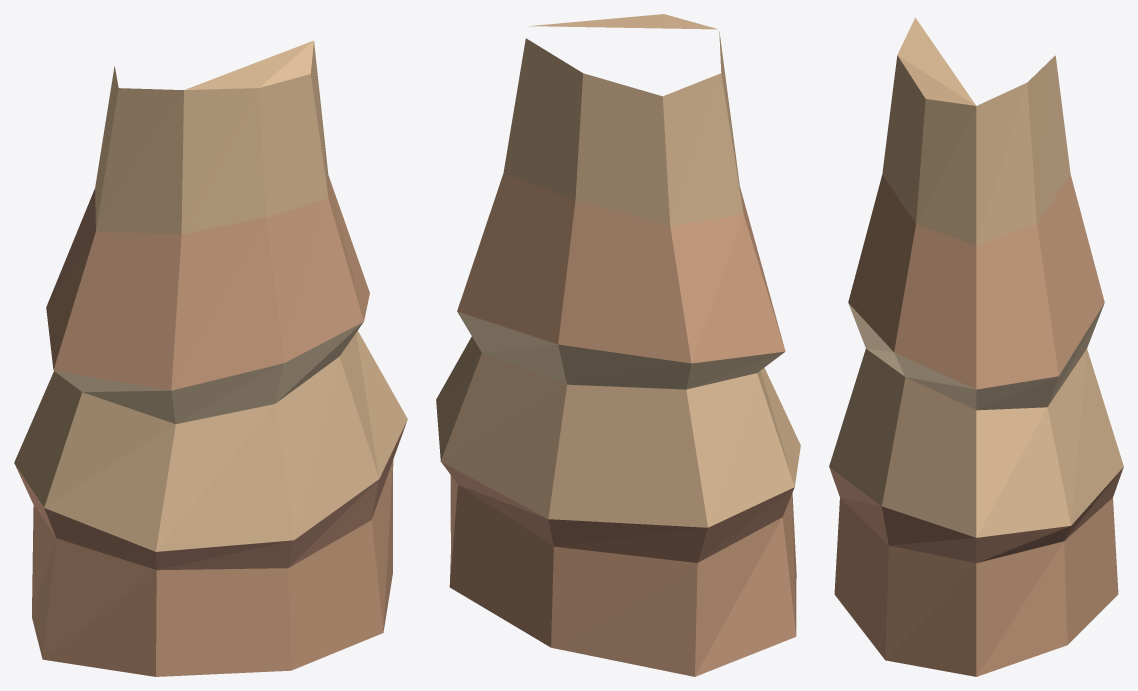
The picture shows the model from 3 angles, left to right: view 1: azimuth 30°, elevation 25°; view 2: azimuth 150°, elevation 25°; view 3: azimuth 270°, elevation 25°; orthographic projection. The views are drawn at different scales.
Bounding box in the file's own units: 23.86 × 35.97 × 17.28.
